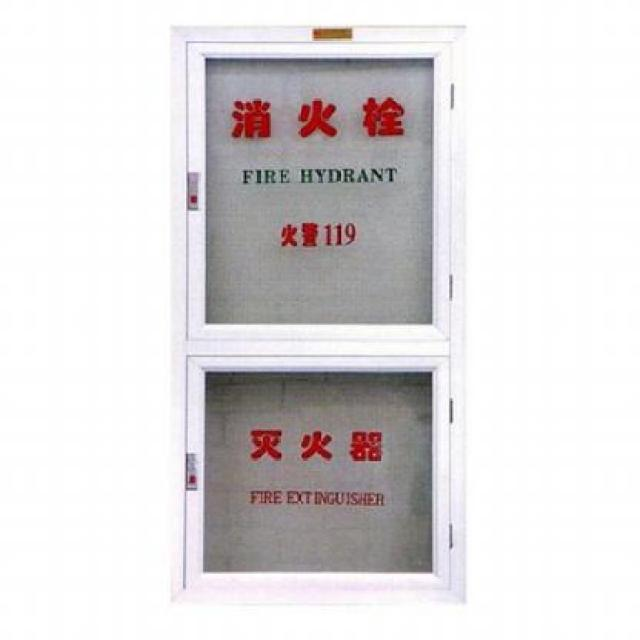firehydrant: (166, 18, 474, 614)
